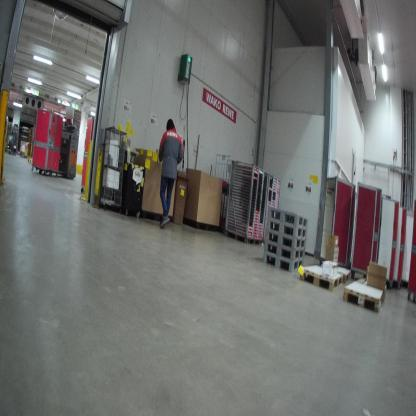pallets: (262, 201, 308, 273), (341, 279, 386, 313)
